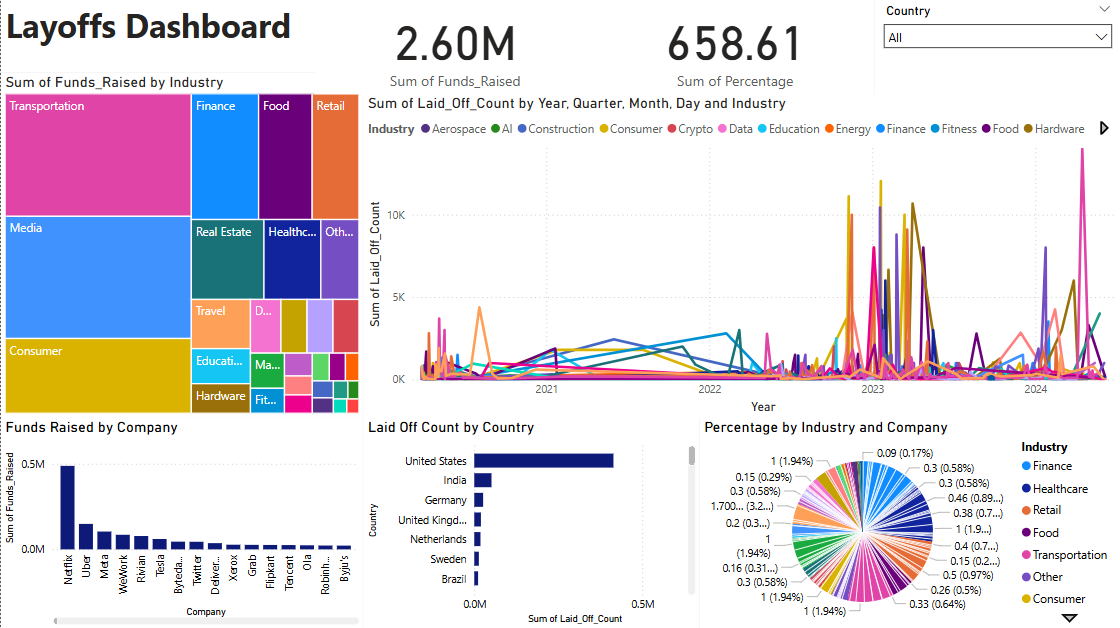

What the dashboard file says about the page in this screenshot:
{"tool":"powerbi","page":{"name":"Page 1","canvas":[1280,720],"ordinal":0},"visuals":[{"type":"textbox","box":[0,0,378.6,84.3],"z":0},{"type":"clusteredColumnChart","title":"Funds Raised by Company","fields":{"Category":["layoffs_data.Company"],"Y":["Sum(layoffs_data.Funds_Raised)"]},"box":[0,478.6,414.3,241.4],"z":1000},{"type":"barChart","title":"Laid Off Count by Country","fields":{"Category":["layoffs_data.Country"],"Y":["Sum(layoffs_data.Laid_Off_Count)"]},"box":[414.3,478.6,384.3,241.4],"z":2000},{"type":"pieChart","title":"Percentage by Industry and Company","fields":{"Y":["Sum(layoffs_data.Percentage)"],"Category":["layoffs_data.Industry"],"Series":["layoffs_data.Company"]},"box":[798.6,478.6,481.4,241.4],"z":3000},{"type":"slicer","fields":{"Values":["layoffs_data.Country"]},"box":[998.6,0,281.4,108.6],"z":4000},{"type":"treemap","fields":{"Values":["Sum(layoffs_data.Funds_Raised)"],"Group":["layoffs_data.Industry"]},"box":[0,84.3,414.3,394.3],"z":5000},{"type":"card","title":"Funds Raised ","fields":{"Values":["Sum(layoffs_data.Funds_Raised)"]},"box":[358.6,0,321.4,108.6],"z":6000},{"type":"card","title":"Percentage","fields":{"Values":["Sum(layoffs_data.Percentage)"]},"box":[680,0,318.6,108.6],"z":7000},{"type":"lineChart","title":"Laid Off Count by Year, Quarter, Month and Day","fields":{"Category":["layoffs_data.Date_Added.Variation.Date Hierarchy.Year","layoffs_data.Date_Added.Variation.Date Hierarchy.Quarter","layoffs_data.Date_Added.Variation.Date Hierarchy.Month","layoffs_data.Date_Added.Variation.Date Hierarchy.Day"],"Y":["Sum(layoffs_data.Laid_Off_Count)"]},"box":[414.4,108.4,478.9,370.5],"z":8000},{"type":"donutChart","title":"Laid Off Count by Industry","fields":{"Y":["Sum(layoffs_data.Laid_Off_Count)"],"Category":["layoffs_data.Industry"]},"box":[893.3,108.4,387,369.1],"z":8001}]}

Visuals, with their boxes in screenshot pixels (x1, y1, x2, y2), scaled from the page's 1280x720 canvas onto the 1120x628 screenshot:
textbox: rect(0, 0, 331, 74)
"Funds Raised by Company" clusteredColumnChart: rect(0, 417, 363, 627)
"Laid Off Count by Country" barChart: rect(363, 417, 699, 627)
"Percentage by Industry and Company" pieChart: rect(699, 417, 1119, 627)
slicer - layoffs_data.Country: rect(874, 0, 1119, 95)
treemap - Sum(layoffs_data.Funds_Raised) x layoffs_data.Industry: rect(0, 74, 363, 417)
"Funds Raised " card: rect(314, 0, 595, 95)
"Percentage" card: rect(595, 0, 874, 95)
"Laid Off Count by Year, Quarter, Month and Day" lineChart: rect(363, 95, 782, 418)
"Laid Off Count by Industry" donutChart: rect(782, 95, 1119, 416)
